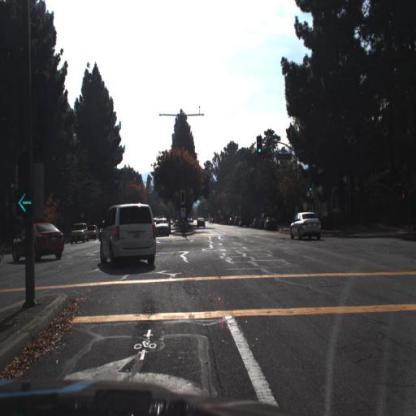car: (98, 201, 160, 269), (12, 219, 67, 262), (10, 223, 65, 264), (287, 208, 325, 242), (154, 216, 173, 239), (195, 213, 208, 231)
trafficLight-Green: (256, 135, 265, 156), (258, 140, 263, 157), (310, 181, 315, 195)
trafficLight-GreenLeft: (18, 151, 33, 220), (182, 191, 187, 209)
